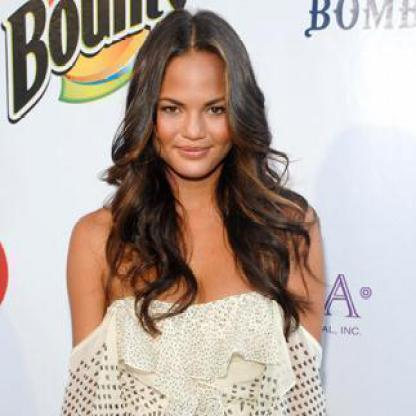long-hair: (98, 181, 301, 230)
